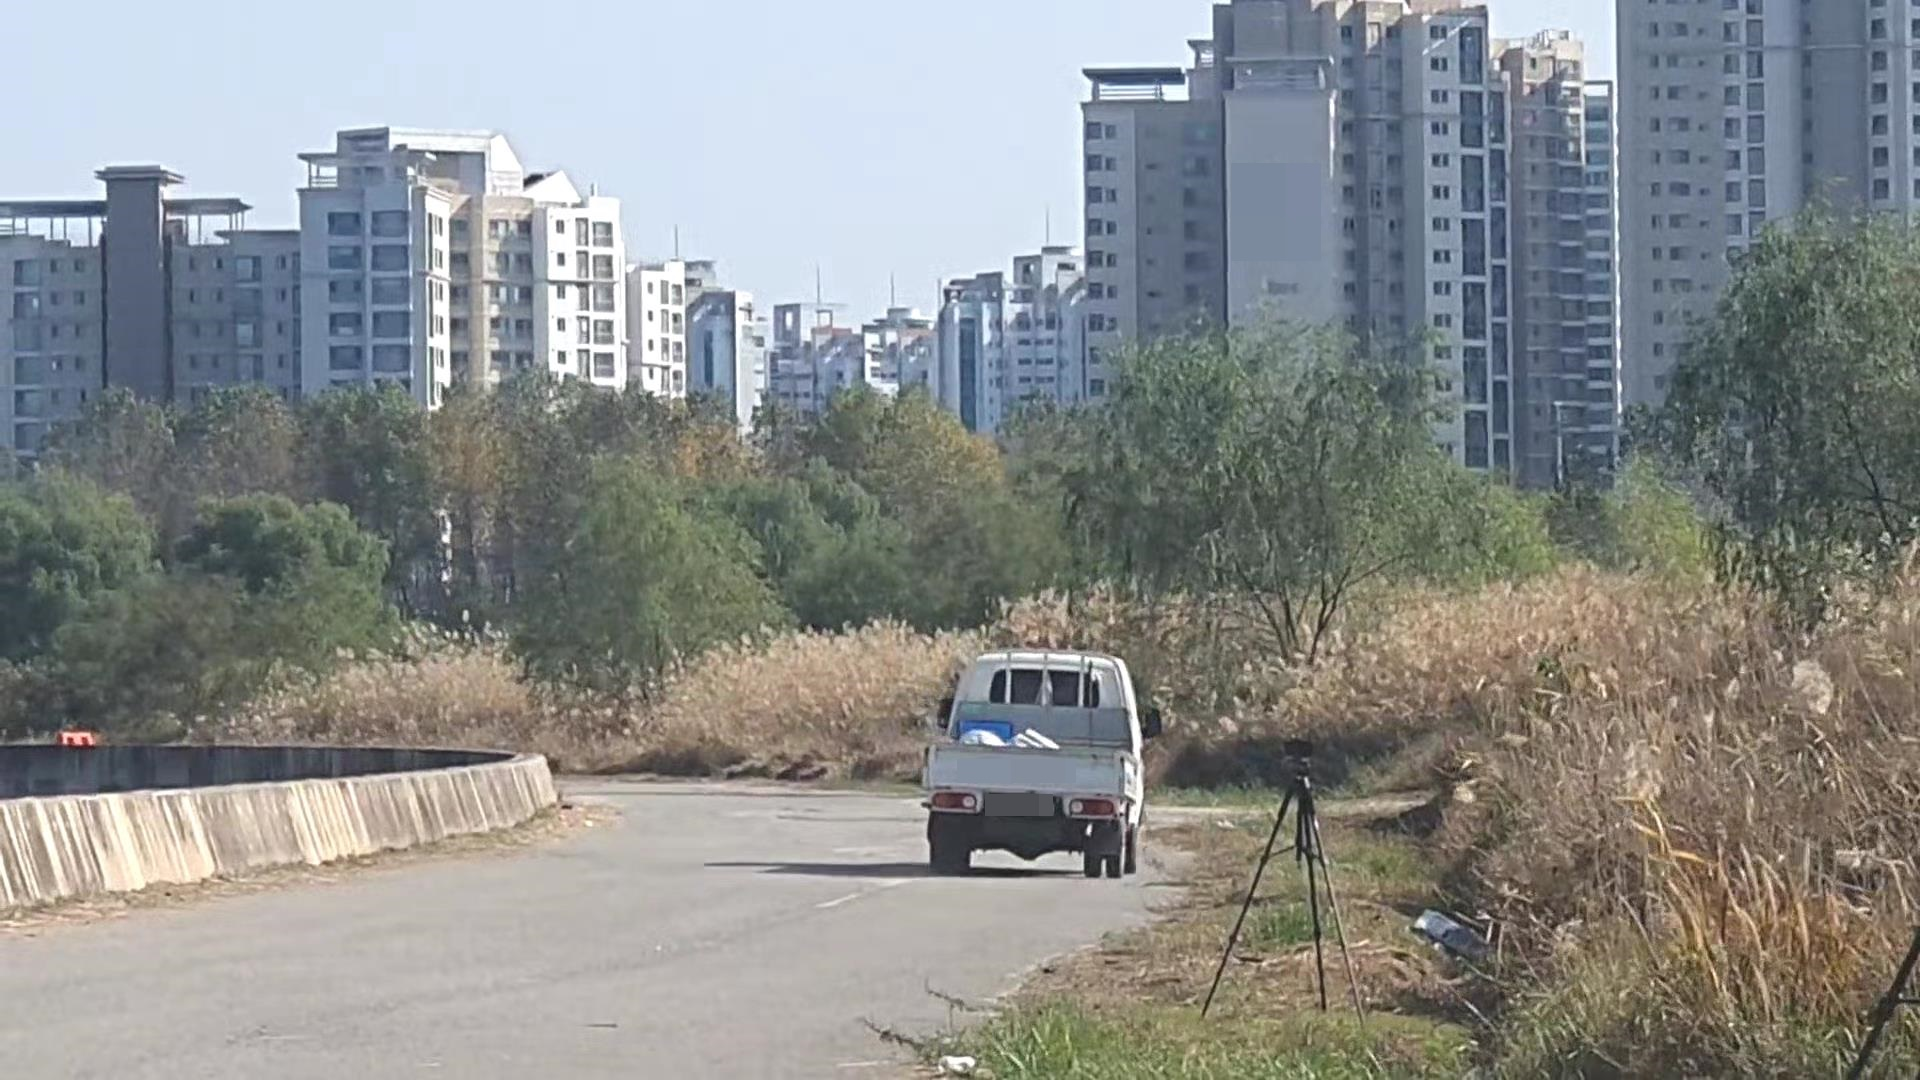불법차량: (922, 650, 1163, 878)
